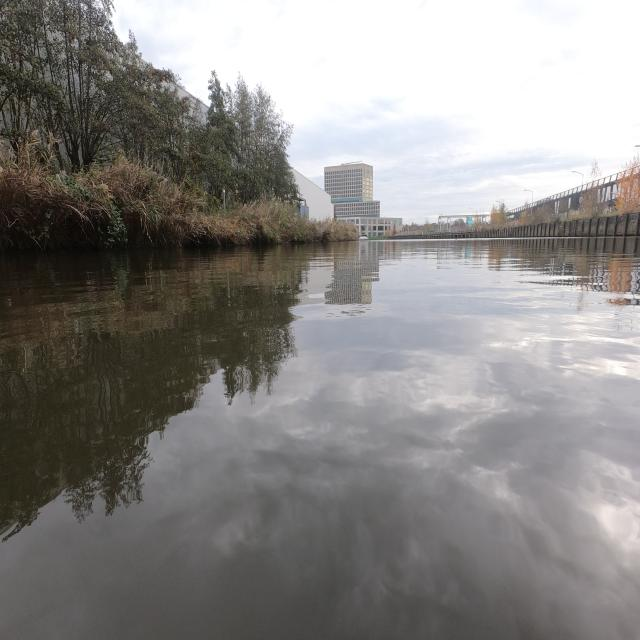reed: (0, 138, 359, 251)
sky: (114, 4, 638, 214), (374, 378, 376, 379)
wall: (433, 212, 640, 239)
water: (0, 239, 640, 640)
